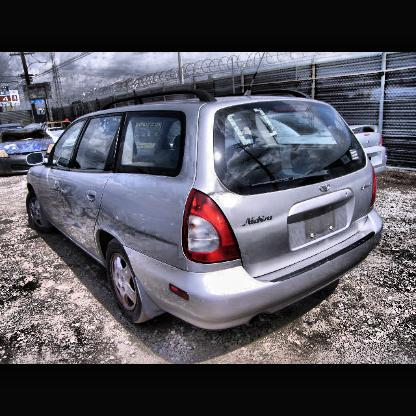Daewoo Nubira Wagon 2002: (26, 88, 386, 333)
